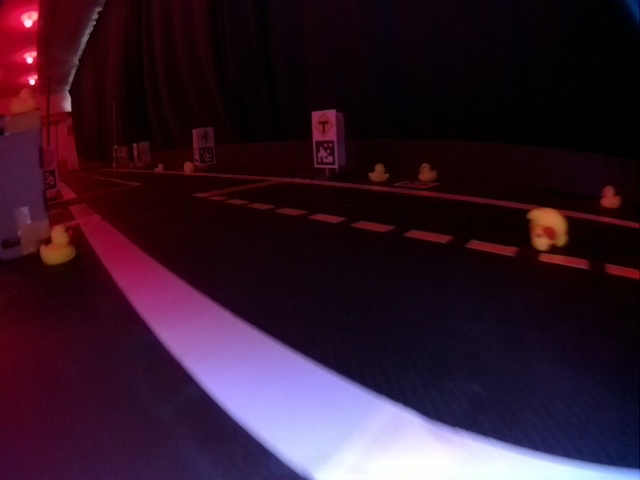Duckie: (527, 207, 567, 250), (40, 226, 74, 265), (601, 187, 620, 207), (419, 164, 437, 181), (370, 165, 388, 180)
Intersection sign: (314, 112, 335, 137), (197, 128, 212, 145)
QR code: (315, 140, 332, 164), (199, 149, 213, 163)
